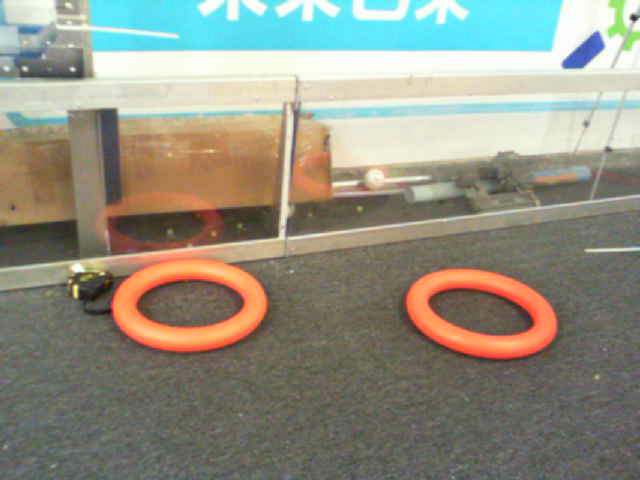Note: (116, 266, 275, 356), (410, 274, 563, 365)
